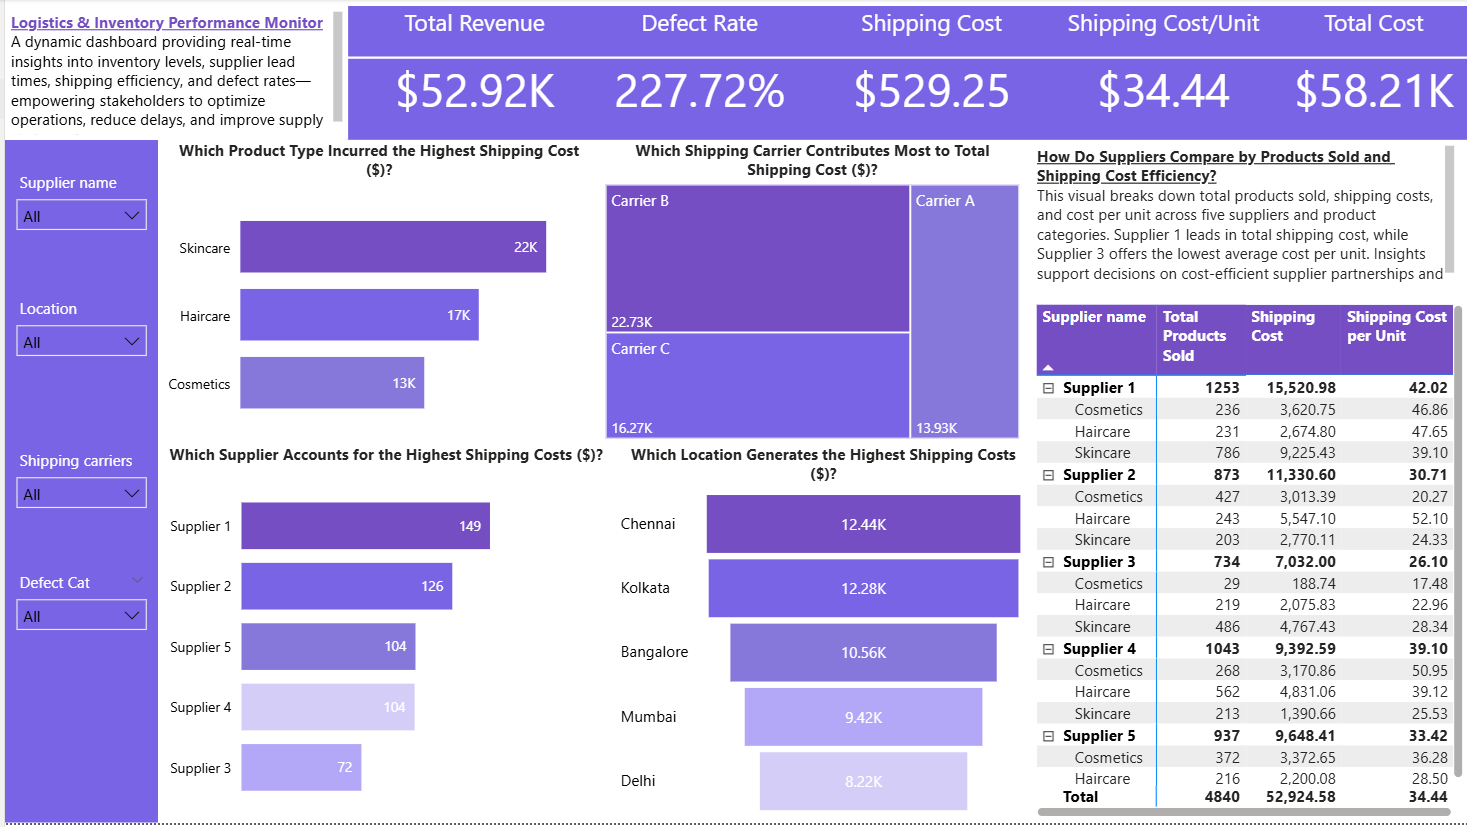

The dashboard page shown, as its layout file describes it:
{"tool":"powerbi","page":{"name":"Logistics & Shipping","canvas":[1280,720],"ordinal":2},"visuals":[{"type":"shape","box":[297.9,6.2,982.5,117],"z":0},{"type":"card","title":"Total Revenue","fields":{"Values":["Measure.Total Revenue"]},"box":[305.9,6.2,209.3,117],"z":1000},{"type":"card","title":"Defect Rate","fields":{"Values":["Logistics&Shipping Measure.Defect Rate"]},"box":[505.4,6.2,203.9,117],"z":2000},{"type":"card","title":"Shipping Cost","fields":{"Values":["Measure.Avg Shipping Cost"]},"box":[708.5,6.2,203.9,117],"z":3000},{"type":"card","title":"Shipping Cost/Unit","fields":{"Values":["Logistics&Shipping Measure.Shipping Cost per Unit"]},"box":[910.6,6.2,203.9,117],"z":4000},{"type":"card","title":"Total Cost","fields":{"Values":["Sum(FactSupplyChain.Total Cost)"]},"box":[1112.8,6.2,167.6,117],"z":5000},{"type":"shape","box":[297.9,42.6,982.5,16.8],"z":6000},{"type":"shape","box":[0,123.3,133.9,596.7],"z":7000},{"type":"barChart","title":"Which Product Type Incurred the Highest Shipping Cost ($)?","fields":{"Category":["DimProduct.Product type"],"Y":["Logistics&Shipping Measure.Shipping Cost"]},"box":[133.9,123.3,386.6,266],"z":8000},{"type":"treemap","title":"Which Shipping Carrier Contributes Most to Total Shipping Cost ($)?","fields":{"Group":["DimCarrier.Shipping carriers"],"Values":["Logistics&Shipping Measure.Shipping Cost"]},"box":[520.5,123.3,371.5,266],"z":9000},{"type":"pivotTable","title":"Where Are Our Top Revenue-Generating Areas Located?","fields":{"Rows":["DimSupplier.Supplier name","DimProduct.Product type"],"Values":["Measure.Total Products Sold","Logistics&Shipping Measure.Shipping Cost","Logistics&Shipping Measure.Shipping Cost per Unit"]},"box":[897.3,262.5,383.1,457.5],"z":10000},{"type":"clusteredBarChart","title":"Which Supplier Accounts for the Highest Shipping Costs ($)?","fields":{"Y":["Sum(FactSupplyChain.Shipping costs)"],"Category":["DimSupplier.Supplier name"]},"box":[133.9,389.3,399,330.7],"z":11000},{"type":"funnel","title":"Which Location Generates the Highest Shipping Costs ($)? ","fields":{"Category":["DimLocation.Location"],"Y":["Logistics&Shipping Measure.Shipping Cost"]},"box":[532.9,389.3,364.4,330.7],"z":12000},{"type":"textbox","box":[0,6.2,299.7,117],"z":13000},{"type":"slicer","fields":{"Values":["DimSupplier.Supplier name"]},"box":[0,146.3,133.9,87.8],"z":14000},{"type":"slicer","fields":{"Values":["DimLocation.Location"]},"box":[0,256.3,133.9,87.8],"z":15000},{"type":"slicer","fields":{"Values":["DimCarrier.Shipping carriers"]},"box":[0,389.3,133.9,87.8],"z":16000},{"type":"slicer","fields":{"Values":["DimCarrier.Defect Cat"]},"box":[0,495.7,133.9,87.8],"z":17000},{"type":"textbox","box":[897.3,123.3,375.1,133],"z":18000}]}

Visuals, with their boxes in screenshot pixels (x1, y1, x2, y2), scaled from the page's 1280x720 canvas onto the 1467x827 screenshot:
shape: 341 7 1466 142
"Total Revenue" card: 351 7 590 142
"Defect Rate" card: 579 7 813 142
"Shipping Cost" card: 812 7 1046 142
"Shipping Cost/Unit" card: 1044 7 1277 142
"Total Cost" card: 1275 7 1466 142
shape: 341 49 1466 68
shape: 0 142 153 826
"Which Product Type Incurred the Highest Shipping Cost ($)?" barChart: 153 142 597 447
"Which Shipping Carrier Contributes Most to Total Shipping Cost ($)?" treemap: 597 142 1022 447
"Where Are Our Top Revenue-Generating Areas Located?" pivotTable: 1028 302 1466 826
"Which Supplier Accounts for the Highest Shipping Costs ($)?" clusteredBarChart: 153 447 611 826
"Which Location Generates the Highest Shipping Costs ($)? " funnel: 611 447 1028 826
textbox: 0 7 343 142
slicer - DimSupplier.Supplier name: 0 168 153 269
slicer - DimLocation.Location: 0 294 153 395
slicer - DimCarrier.Shipping carriers: 0 447 153 548
slicer - DimCarrier.Defect Cat: 0 569 153 670
textbox: 1028 142 1458 294
